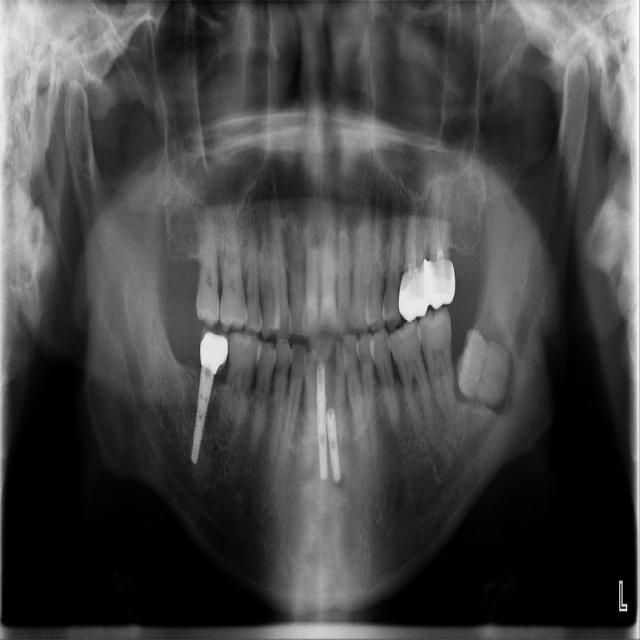52: (398, 262, 431, 324), (421, 257, 458, 312), (196, 322, 233, 376)
73: (403, 186, 437, 273), (426, 177, 454, 260), (626, 618, 633, 628)
BioHorizons Implant: (423, 177, 456, 311)
Biomet 3i Implant: (447, 326, 524, 411)
Blue Sky Bio Implant: (416, 302, 459, 427)
Caries: (196, 199, 220, 328)
Implant: (187, 320, 233, 467)
